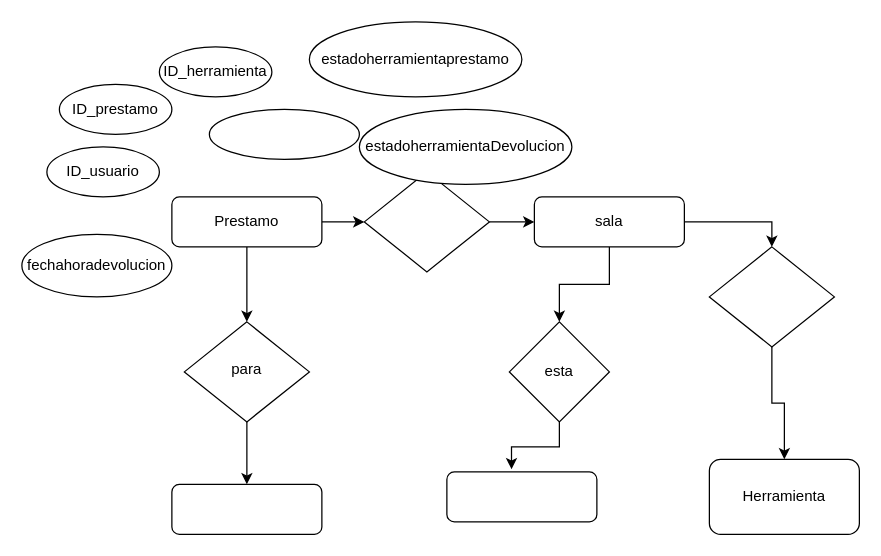
Some shapes in this 881 by 556 pixel diagram are drawn without their labels. The shapes that lost their labels are listed below. From the top down, each one's centre as x and y in pixels, then its label:
At (283,133): "fechahoraprestamo".
At (426,221): "en".
At (771,296): "se presto".
At (246,508): "Usuario".
At (521,496): "Profesor".
